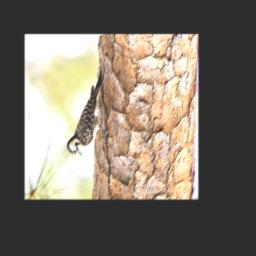Woodpecker: (67, 65, 109, 156)
